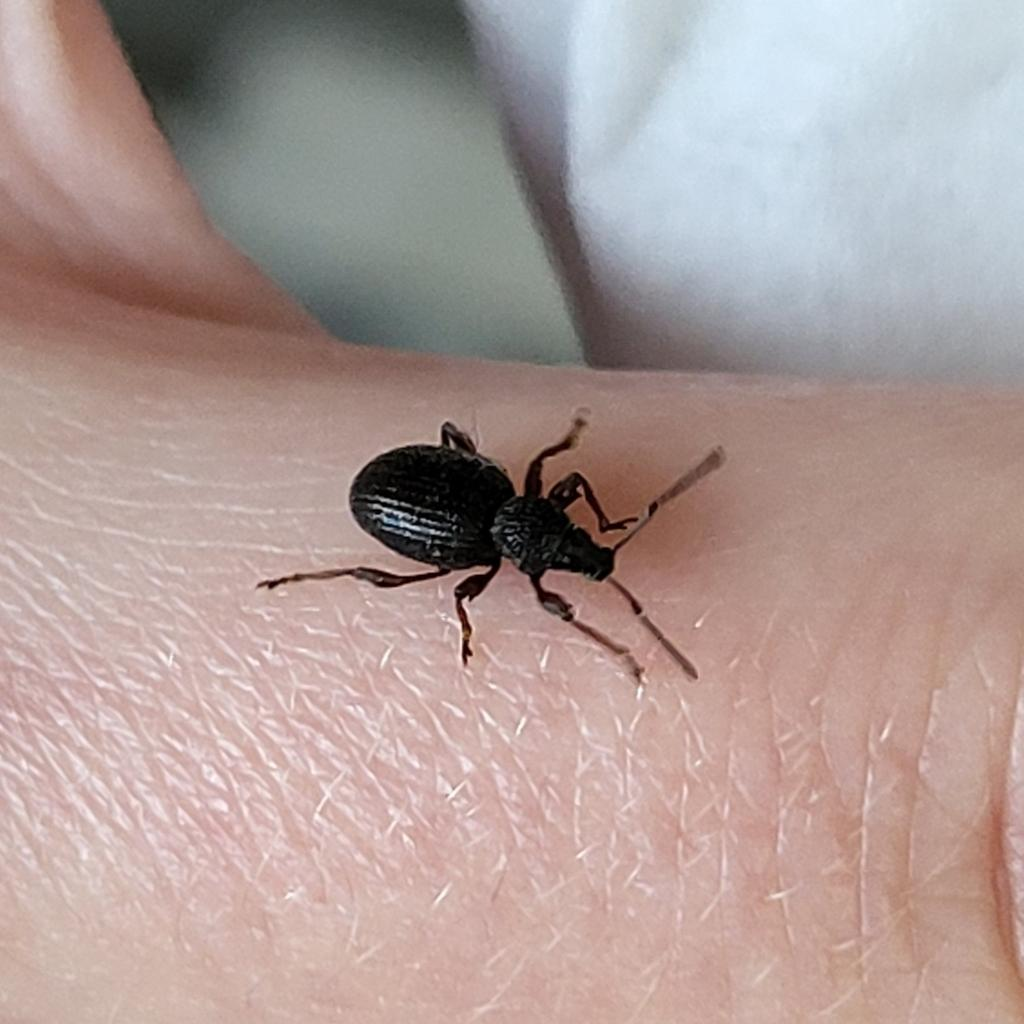weevils: (229, 350, 764, 721)
